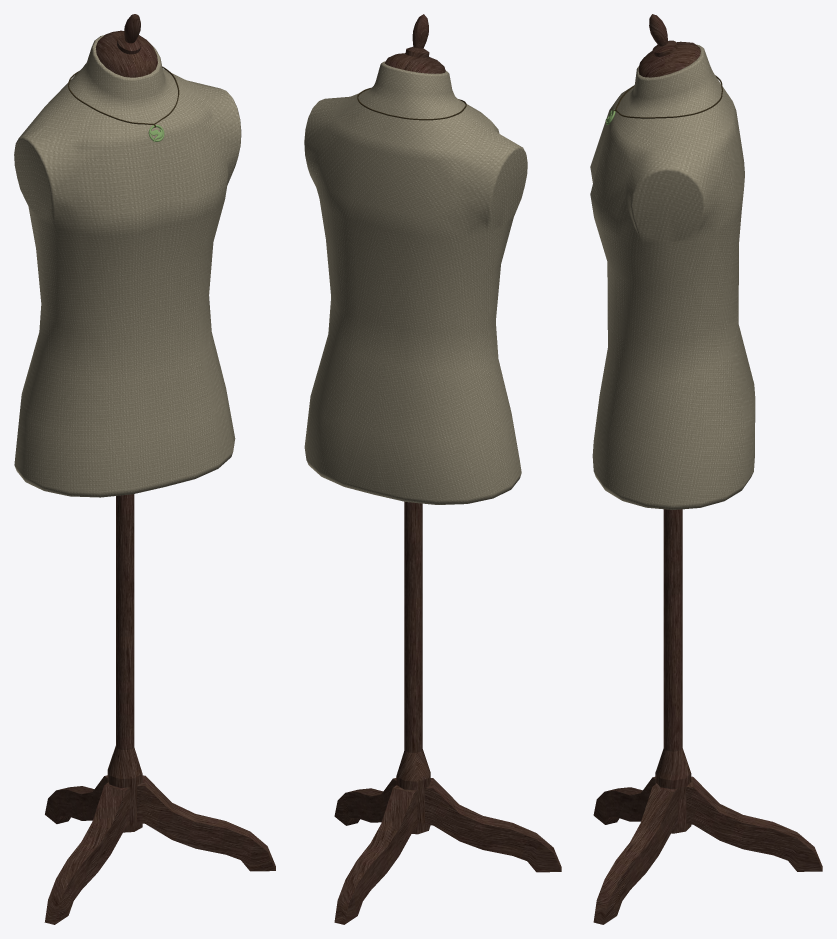
The model's file is mannequin-pendant-necklace.glb.
3 renders of one model, left to right at view 1: azimuth 30°, elevation 25°; view 2: azimuth 150°, elevation 25°; view 3: azimuth 270°, elevation 25°, orthographic.
Visible parts, largest first — view 1: defaultMaterial, pendant; view 2: defaultMaterial; view 3: defaultMaterial.
Part boxes in pixels (x1,y1,x2,y2): defaultMaterial: (14, 14, 275, 924); pendant: (68, 66, 179, 141); defaultMaterial: (304, 14, 561, 924); defaultMaterial: (590, 14, 822, 924).
Size of the model in its own units: 48.58 by 173 by 42.67.
3 materials, 1 textured.
